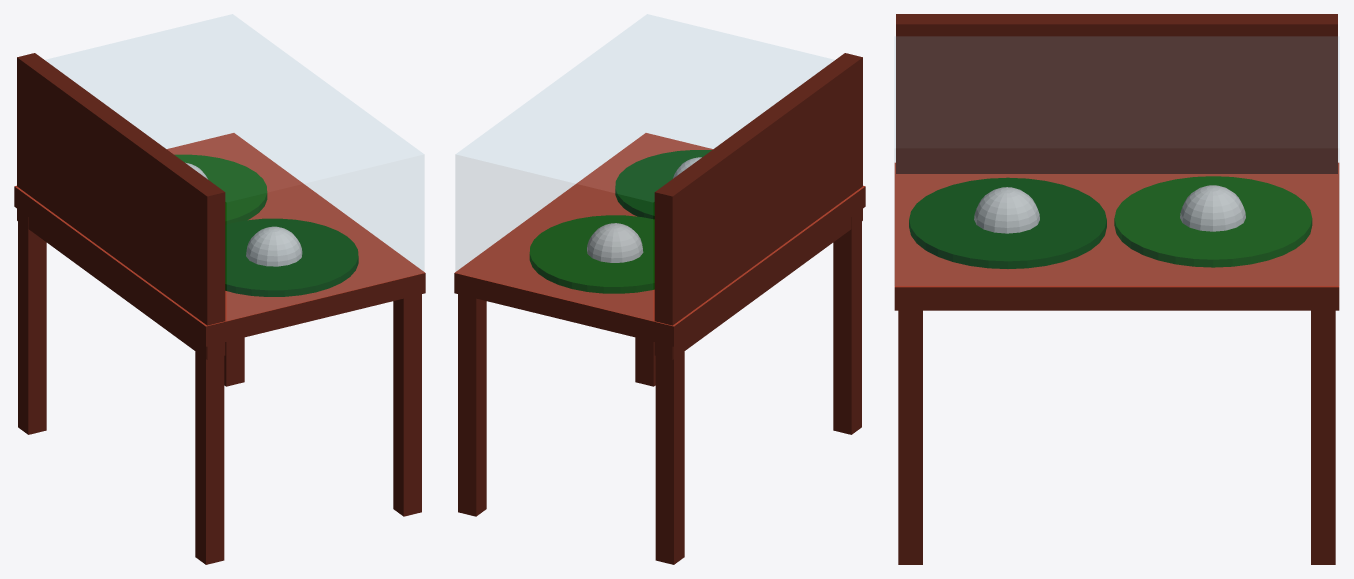
File: montre2.gltf
3 renders of one model, left to right at view 1: azimuth 30°, elevation 25°; view 2: azimuth 150°, elevation 25°; view 3: azimuth 270°, elevation 25°, orthographic. The views are drawn at different scales.
Parts seen in each view (by area): view 1: glass, Cube.006, Cube.004, Cylinder.001, Cube.003, Cube.002, Cube, Cylinder, Sphere, Cube.001; view 2: glass, Cube.006, Cube.004, Cylinder, Cube, Cube.001, Cube.003, Cylinder.001, Sphere.001, Cube.002; view 3: glass, Cube.006, Cube.004, Cylinder, Cylinder.001, Cube.001, Cube.002, Sphere.001, Sphere.
Boxes of the visible parts, x1,y1,x2,y2 form: glass: [46, 14, 423, 320]; Cube.006: [17, 53, 225, 359]; Cube.004: [14, 133, 425, 346]; Cylinder.001: [225, 218, 358, 296]; Cube.003: [195, 339, 224, 564]; Cube.002: [393, 294, 421, 516]; Cube: [18, 209, 46, 434]; Cylinder: [174, 154, 267, 224]; Sphere: [246, 226, 302, 266]; Cube.001: [224, 337, 244, 386]; glass: [456, 14, 833, 320]; Cube.006: [654, 53, 862, 359]; Cube.004: [454, 133, 865, 346]; Cylinder: [529, 215, 654, 293]; Cube: [655, 339, 684, 564]; Cube.001: [458, 294, 486, 516]; Cube.003: [833, 209, 861, 434]; Cylinder.001: [615, 150, 711, 219]; Sphere.001: [587, 223, 643, 262]; Cube.002: [635, 337, 655, 386]; glass: [895, 37, 1338, 285]; Cube.006: [896, 14, 1337, 173]; Cube.004: [894, 162, 1339, 310]; Cylinder: [1114, 176, 1312, 267]; Cylinder.001: [909, 177, 1106, 268]; Cube.001: [1311, 310, 1335, 564]; Cube.002: [898, 310, 922, 564]; Sphere.001: [1180, 185, 1245, 231]; Sphere: [974, 187, 1039, 233].
Bounding box in the file's own units: 2 × 3.21 × 3.02.
